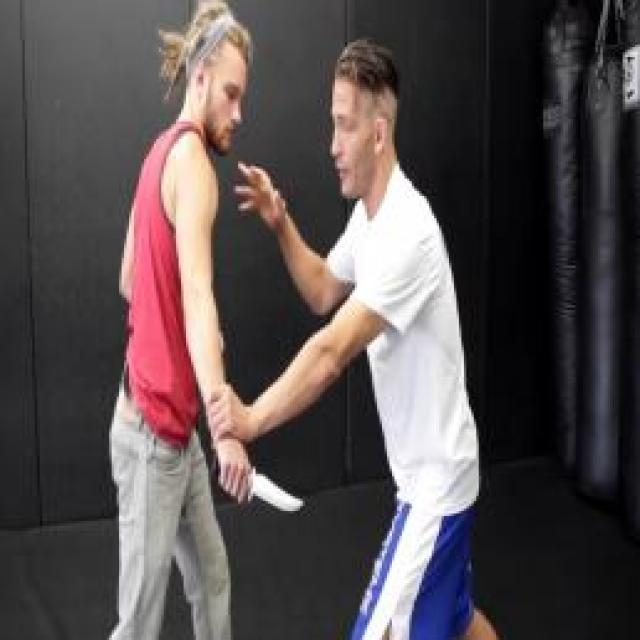knife: (208, 444, 312, 522)
